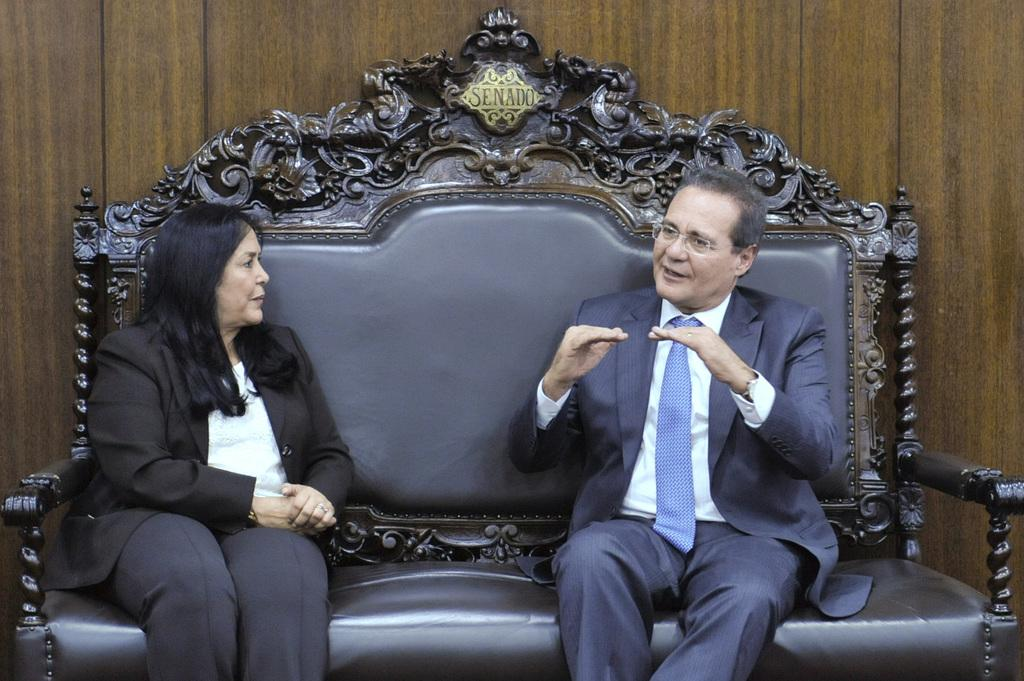Sem Máscara: (652, 182, 744, 296), (217, 227, 269, 323)
